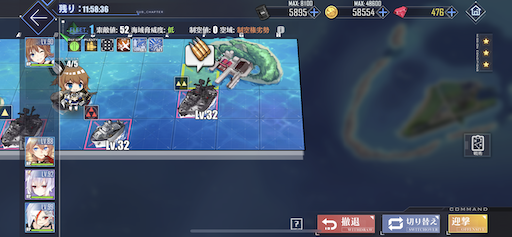lv1: (0, 107, 43, 152)
lv2: (174, 77, 217, 119)
lv3: (85, 103, 129, 149)
